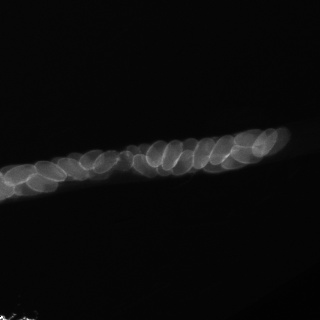embryo: (262, 127, 288, 155), (252, 129, 277, 157), (210, 135, 233, 165), (4, 164, 34, 187), (57, 157, 86, 180), (230, 145, 265, 164), (69, 153, 96, 177), (161, 140, 182, 170), (16, 174, 46, 195), (155, 150, 180, 175), (131, 154, 158, 177), (194, 138, 214, 169), (35, 161, 66, 181), (93, 150, 119, 173), (202, 153, 233, 172), (26, 173, 57, 192), (221, 148, 248, 169), (146, 141, 167, 167), (234, 129, 265, 146), (140, 145, 161, 169), (173, 150, 193, 175), (79, 150, 103, 170), (178, 138, 200, 159), (114, 151, 134, 171), (90, 164, 112, 181), (126, 146, 141, 166)
